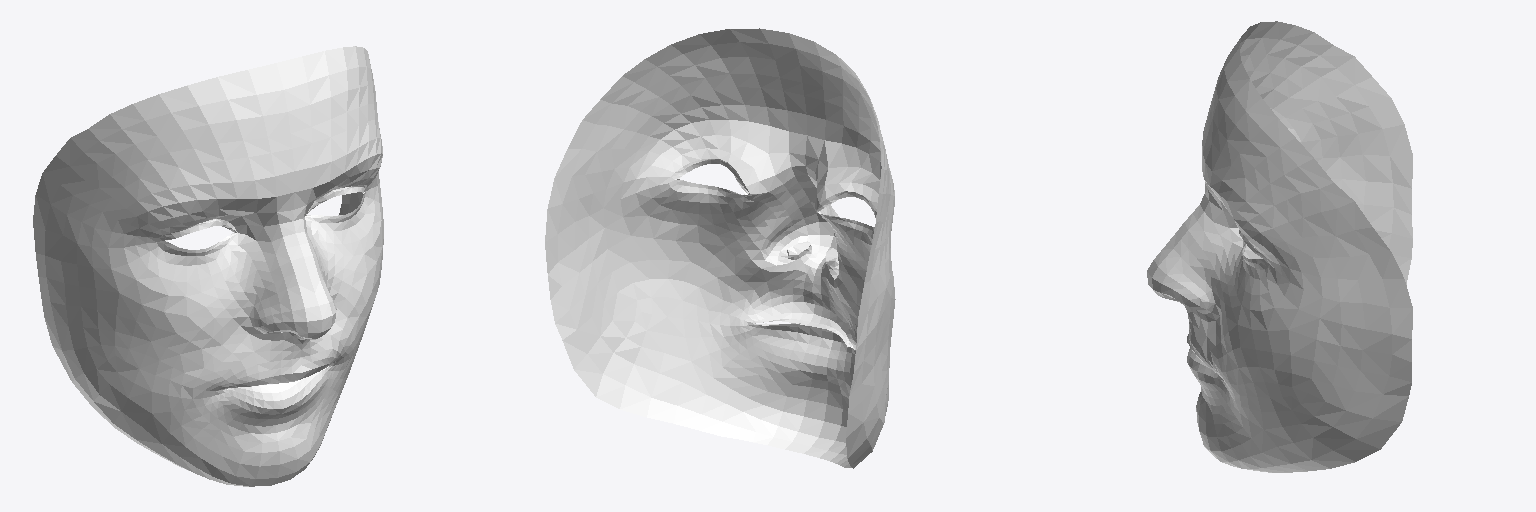
The model's file is jawRight.obj.
The picture shows the model from 3 angles: view 1: azimuth 30°, elevation 25°; view 2: azimuth 150°, elevation 25°; view 3: azimuth 270°, elevation 25°; orthographic projection.
Visible parts, largest first — view 1: default; view 2: default; view 3: default.
Part boxes in pixels (left/top/right/bottom): default: left=33, top=46, right=383, bottom=486; default: left=545, top=28, right=895, bottom=468; default: left=1147, top=21, right=1412, bottom=472.
Size of the model in its own units: 0.1447 by 0.1819 by 0.1055.